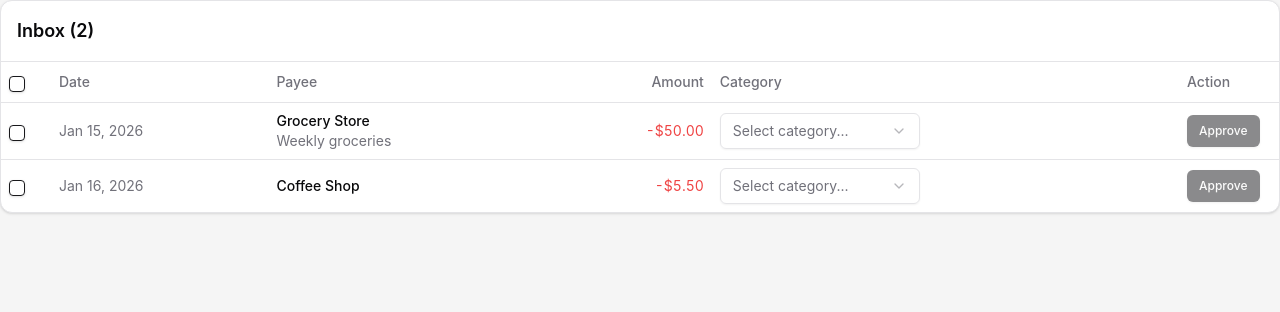
Scenario: TransactionInbox › should enable approve button when category is selected
Expected: the text "Grocery Store" is shown, [276,112,370,128]
What coordinates should you click on to do the following:
click the dropdown labelled "Select category..." in the row of "Jan 15, 2026"
I would click on:
 (820, 130)
Its box is [720,112,920,148].
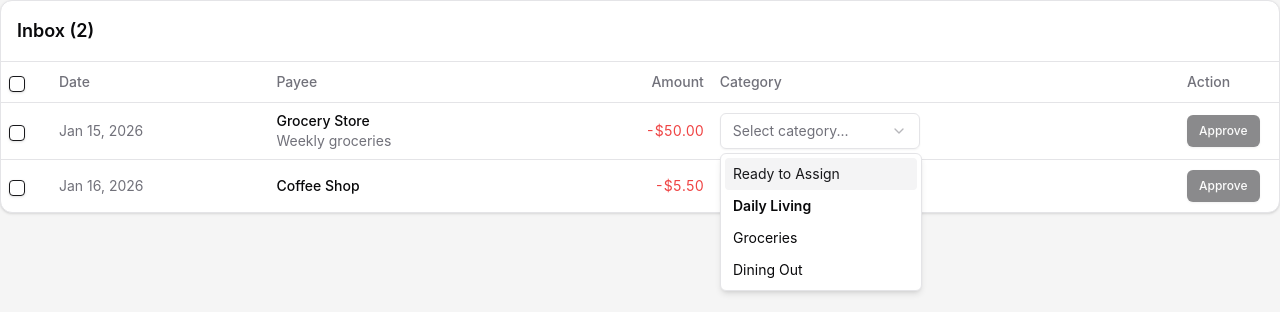
Now the option "Groceries" is shown
What coordinates should you click on to do the following:
click the option "Groceries"
I would click on:
 (765, 238)
Its box is [733,229,797,246].
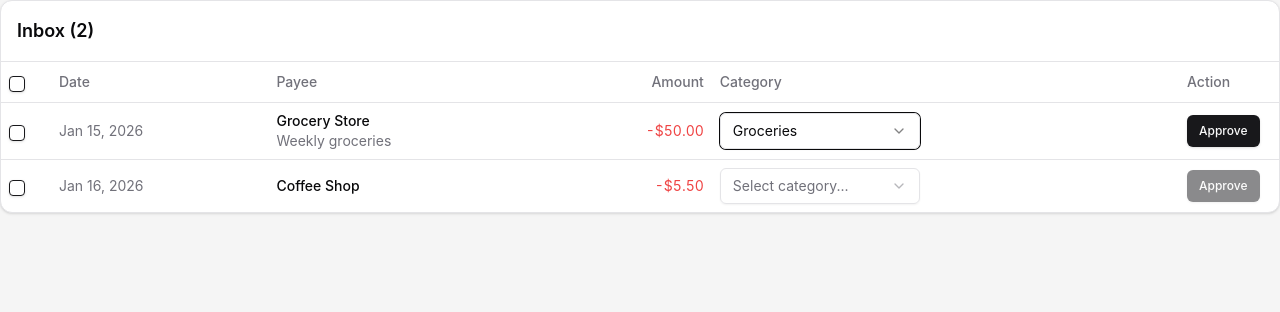
Now the button "Approve" in the row of "Jan 15, 2026" is enabled, box [1187,114,1260,146]
